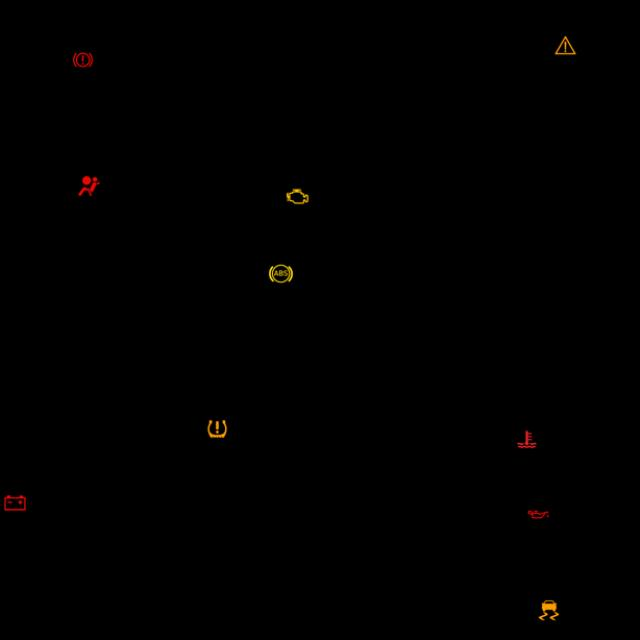Anti Lock Braking System: (267, 260, 293, 286)
Braking System Issue: (69, 47, 95, 73)
Charging System Issue: (1, 490, 27, 516)
Check Engine: (284, 183, 310, 210)
Electronic Stability Problem -ESP-: (535, 598, 561, 624)
Engine Overheating Warning Light: (513, 427, 539, 452)
Low Engine Oil Warning Light: (524, 502, 550, 528)
Low Tire Pressure Warning Light: (203, 416, 230, 442)
Master warning light: (552, 32, 578, 58)
SRS-Airbag: (75, 173, 101, 199)
